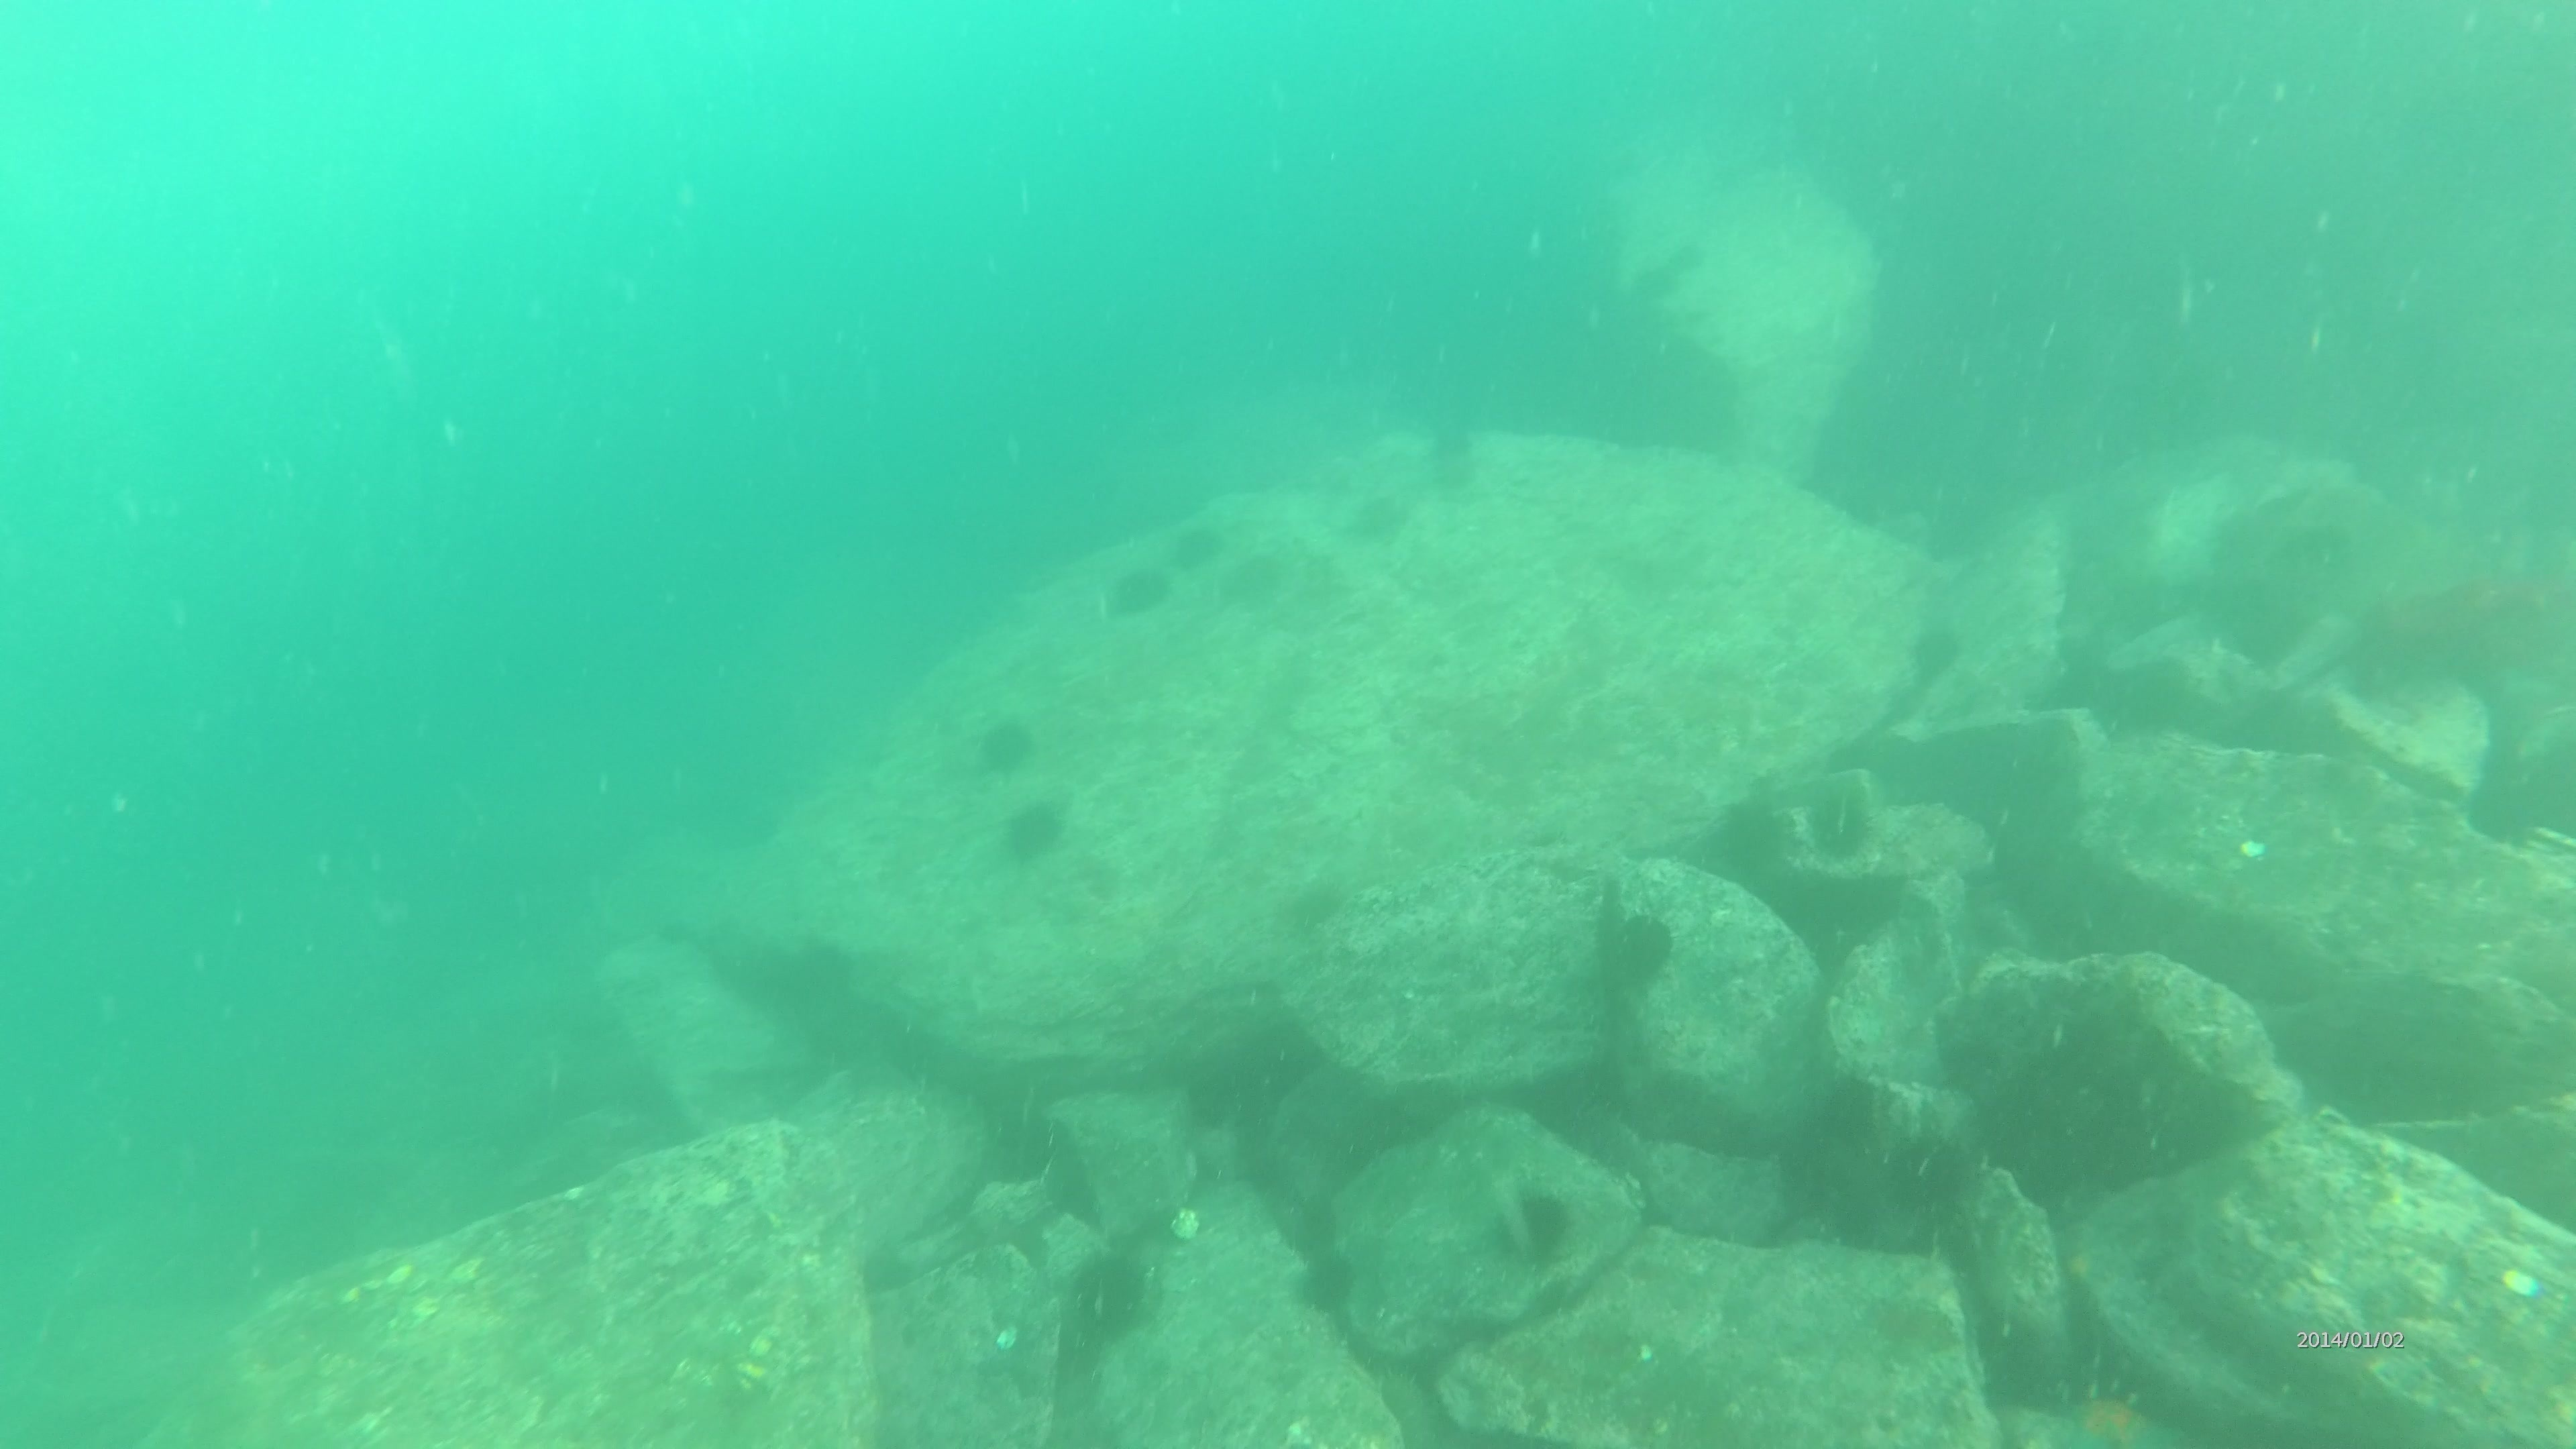echinus: (1877, 1122, 1982, 1228), (1063, 1240, 1162, 1346), (1702, 789, 1799, 888), (1591, 899, 1683, 1000), (1798, 766, 1886, 867), (1499, 1178, 1582, 1270), (1214, 541, 1293, 617), (994, 794, 1072, 869), (1099, 557, 1177, 626), (970, 708, 1040, 782), (1900, 614, 1969, 688), (1338, 485, 1415, 550), (1169, 515, 1226, 577), (1415, 453, 1483, 499), (1435, 425, 1472, 455)
starfish: (2054, 1378, 2169, 1449)
